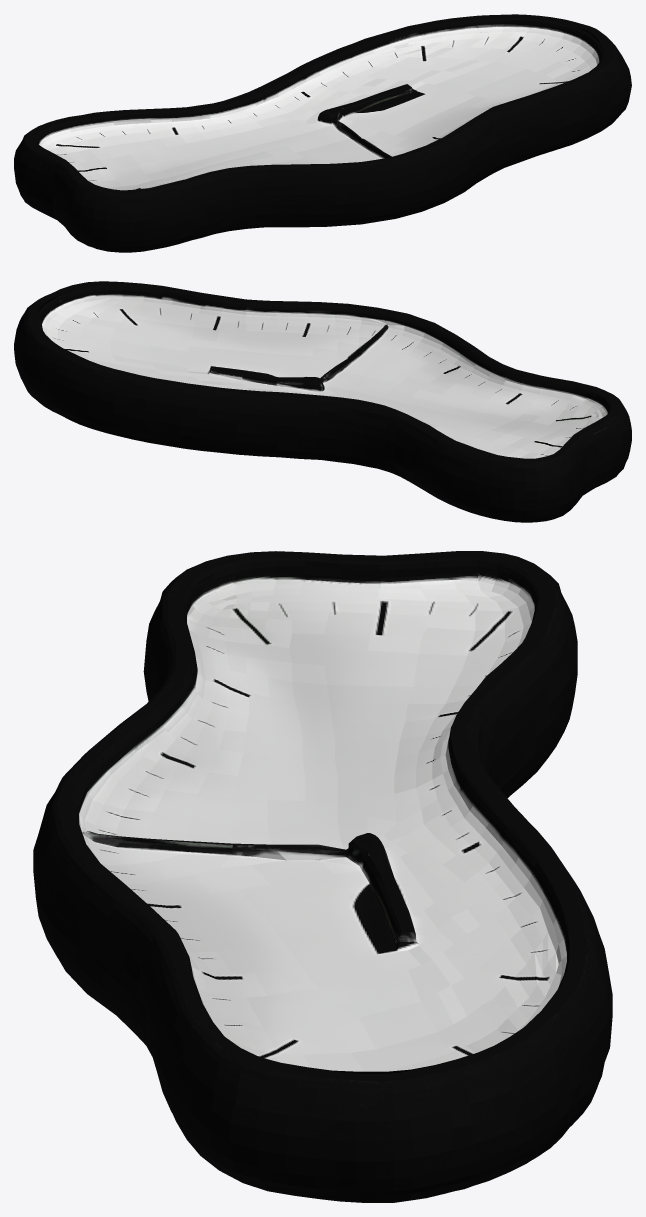
The model's file is Meshy_AI_Melting_Time_0628184252_texture.fbx.
3 renders of one model, top to bottom at view 1: azimuth 30°, elevation 25°; view 2: azimuth 150°, elevation 25°; view 3: azimuth 270°, elevation 25°, orthographic. The views are drawn at different scales.
Visible parts, largest first — view 1: temp; view 2: temp; view 3: temp.
Boxes of the visible parts, box(x1,y1,x2,y2) form: temp: box(14, 14, 631, 252); temp: box(14, 281, 631, 522); temp: box(33, 551, 612, 1202).
Bounding box in the file's own units: 191 × 19.18 × 84.15.
1 material, 1 textured.
